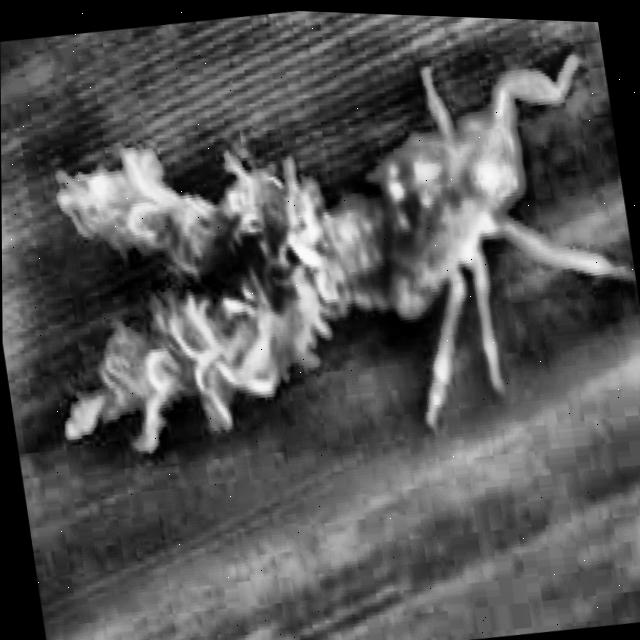Pyrilla-perpusilla: (27, 1, 640, 558)
